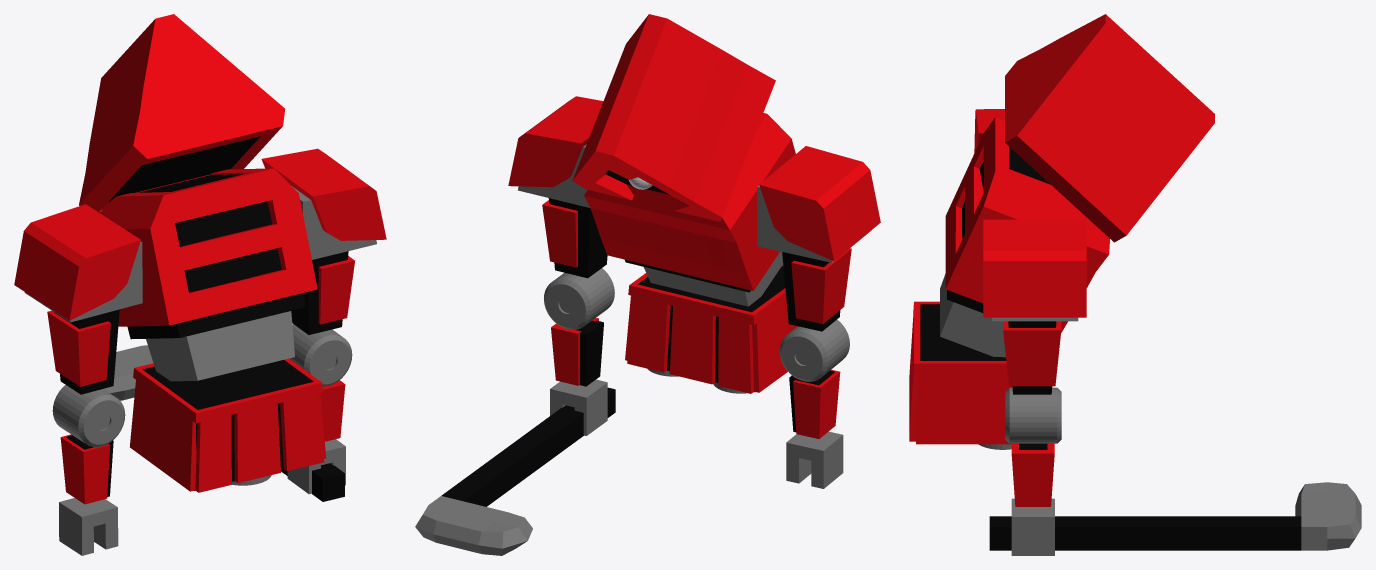
File: playerstart.fbx
3 renders of one model, left to right at view 1: azimuth 30°, elevation 25°; view 2: azimuth 150°, elevation 25°; view 3: azimuth 270°, elevation 25°, orthographic. The views are drawn at different scales.
Parts seen in each view (by area): view 1: body.016, body.020, body.021, body.001, body.025, body.022, body.004, body.027, body.015, body.002, body.018, body.024 (+9 smaller); view 2: body.016, body.020, body.021, body.019, body.025, body.022, body.010, body.027, body.015, body.018, body.001, body.024 (+9 smaller); view 3: body.016, body.019, body.020, body.022, body.021, body.001, body.026, body.010, body.023, body.017, body.004, body.006 (+1 smaller).
Part boxes in pixels (x1,y1,x2,y2): body.016: (79,14,285,212); body.020: (100,168,317,326); body.021: (130,358,326,492); body.001: (127,174,305,381); body.025: (14,204,140,320); body.022: (261,148,386,240); body.004: (142,360,313,490); body.027: (47,310,110,386); body.015: (52,385,125,446); body.002: (109,136,260,201); body.018: (59,498,118,555); body.024: (60,434,110,504); body.016: (572,14,775,221); body.020: (584,113,795,290); body.021: (625,264,797,393); body.019: (415,387,615,555); body.025: (759,146,880,260); body.022: (508,96,603,187); body.010: (544,268,614,329); body.027: (791,248,851,323); body.015: (779,319,849,381); body.018: (786,431,843,488); body.001: (625,251,783,306); body.024: (793,369,840,438); body.016: (1005,14,1214,242); body.019: (989,482,1361,550); body.020: (945,117,1109,332); body.022: (983,219,1086,317); body.021: (909,301,1012,444); body.001: (940,147,1050,357); body.026: (1003,321,1061,386); body.010: (1005,387,1061,443); body.023: (1011,443,1054,506); body.017: (1011,498,1054,555); body.004: (920,304,1006,360); body.006: (1008,321,1056,394).
Bounding box in the file's own units: 878 × 1208 × 1049.
